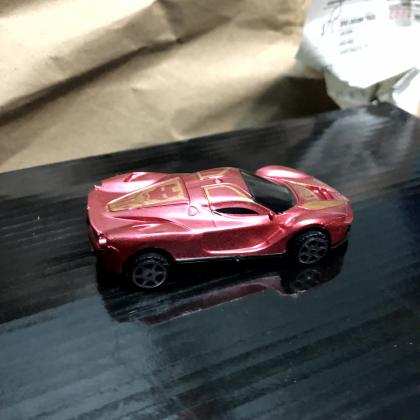Car: (86, 166, 354, 290)
